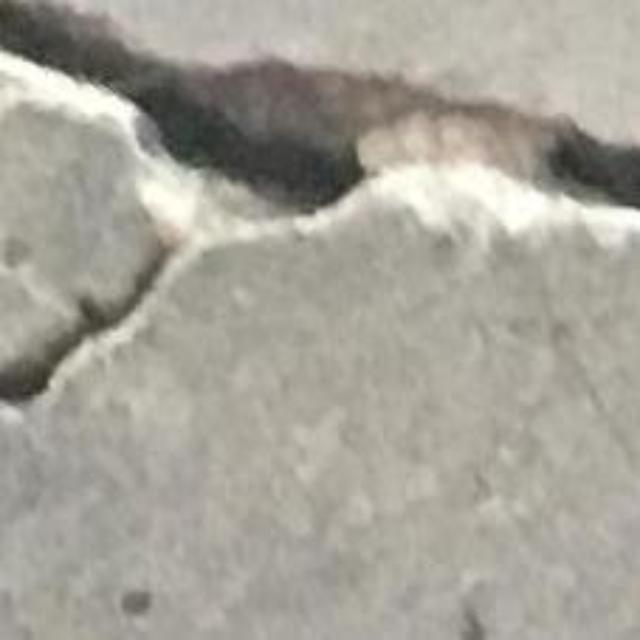crack: (0, 0, 639, 400)
